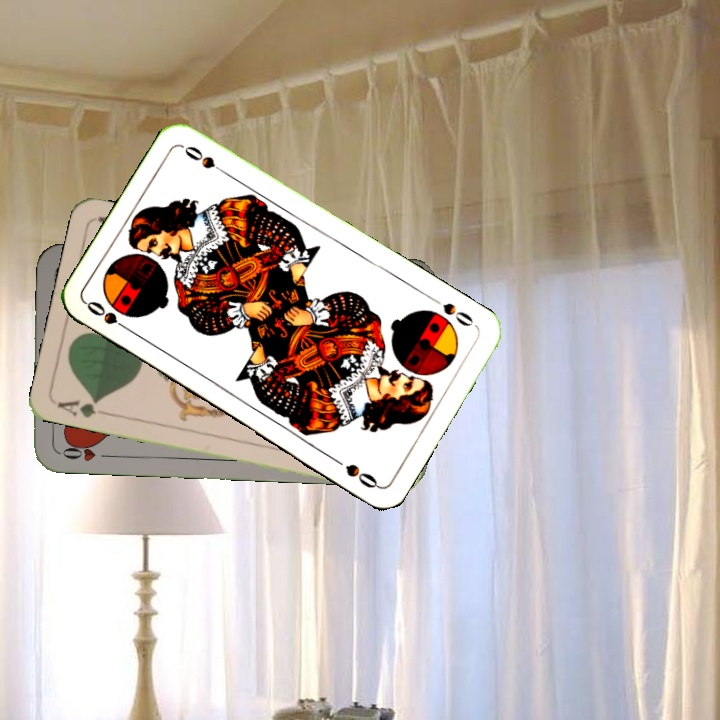GA: (53, 395, 112, 421)
HO: (54, 438, 113, 464)
SO: (82, 296, 135, 336), (438, 298, 480, 330)
